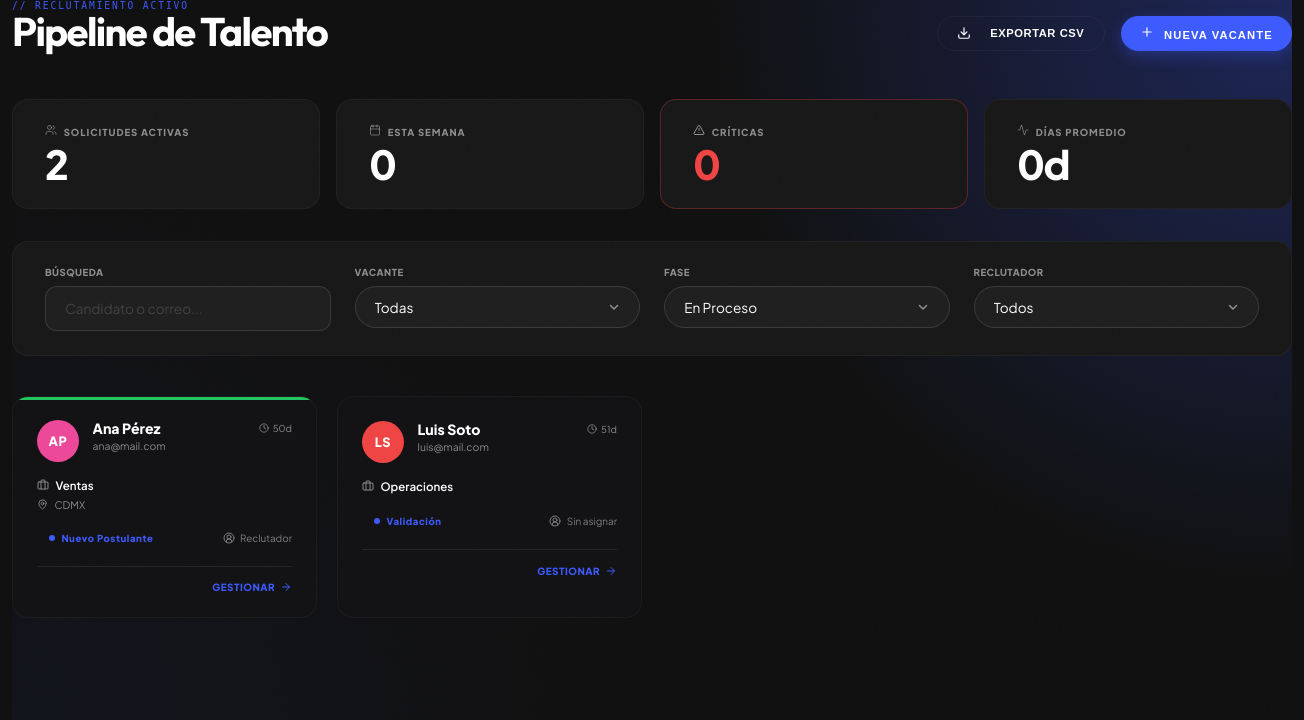
Test: CrmDashboard › filtro de Fase muestra Contratado al seleccionarlo
Check: the text "Ana Pérez" is shown, box [93,419,160,437]
Select "Contratado" in the dropdown labelled "Fase". click: (807, 307)
box: [664,286,950,328]
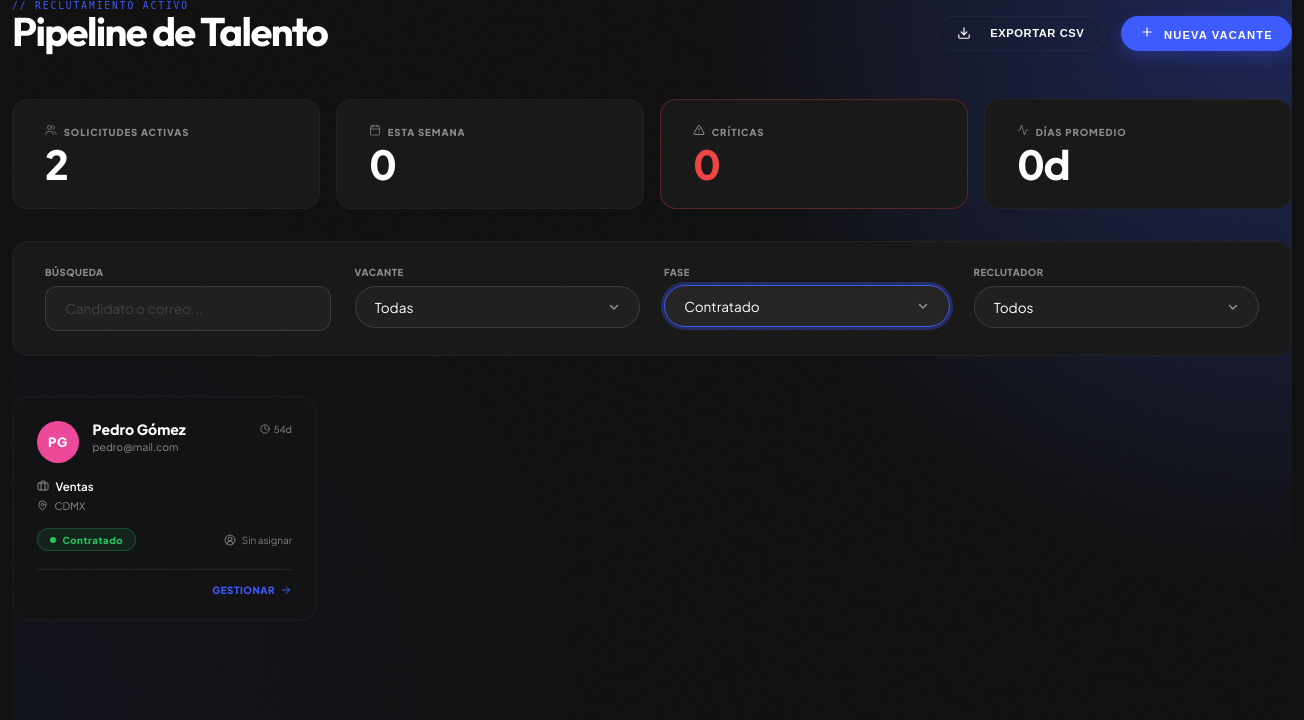
Check: the text "Pedro Gómez" is shown, box [93,420,186,438]
Check: the link "Ana Pérez" is gone
